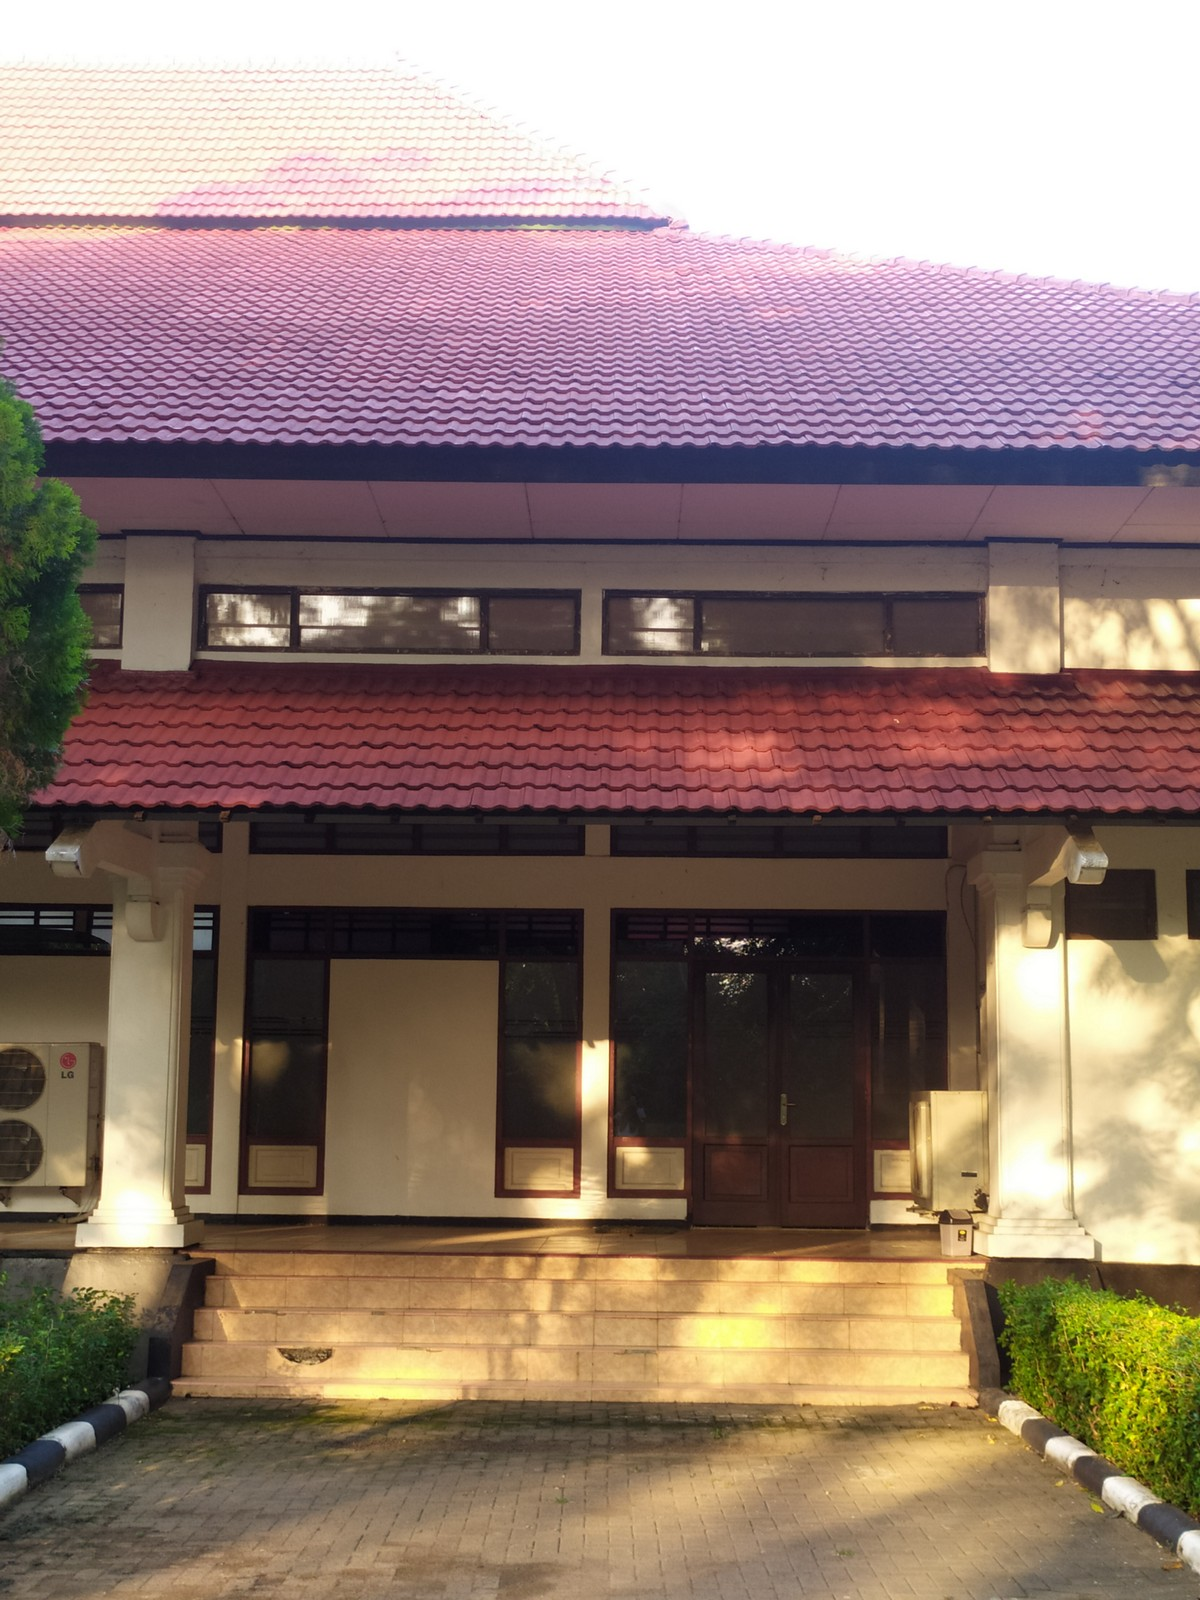concrete column: (968, 898, 1087, 1217), (87, 901, 198, 1232)
